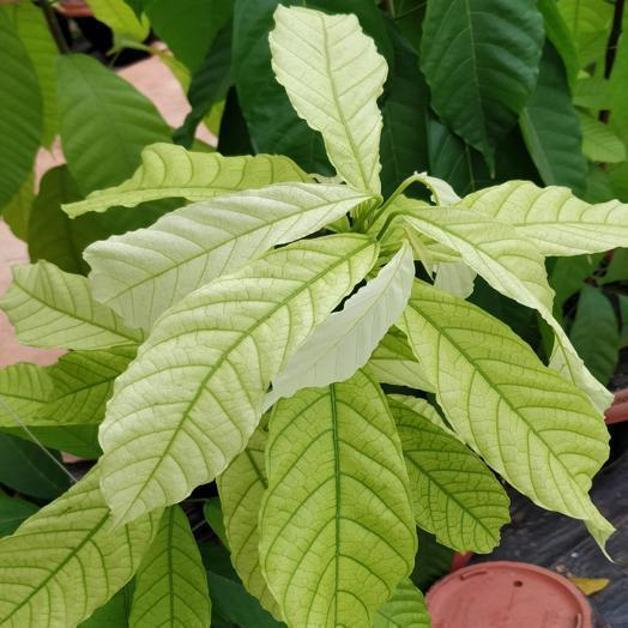Iron: (102, 235, 375, 522), (402, 281, 612, 540), (85, 183, 378, 328), (269, 244, 413, 400), (269, 5, 387, 194)
